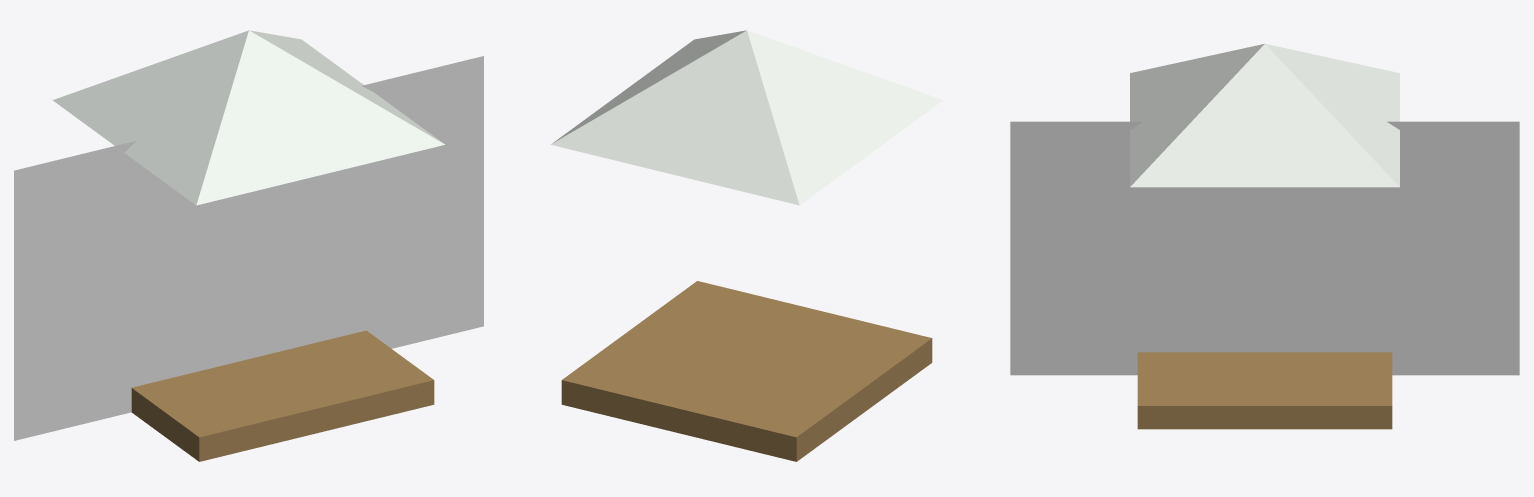
Rendered from mini_greenhouse.glb.
3 renders of one model, left to right at view 1: azimuth 30°, elevation 25°; view 2: azimuth 150°, elevation 25°; view 3: azimuth 270°, elevation 25°, orthographic. The views are drawn at different scales.
Parts seen in each view (by area): view 1: Plane.001, Plane, Cone, Cube; view 2: Cube, Cone; view 3: Plane.002, Plane.003, Cone, Cube.
Part boxes in pixels (x1,y1,x2,y2): Plane.001: (14, 140, 248, 440); Plane: (249, 56, 483, 358); Cone: (52, 30, 445, 205); Cube: (131, 330, 434, 461); Cube: (561, 281, 932, 461); Cone: (550, 30, 943, 205); Plane.002: (1265, 121, 1519, 375); Plane.003: (1010, 121, 1264, 375); Cone: (1130, 43, 1399, 187); Cube: (1137, 352, 1392, 429).
Bounding box in the file's own units: 0.8 × 0.575 × 0.8.
